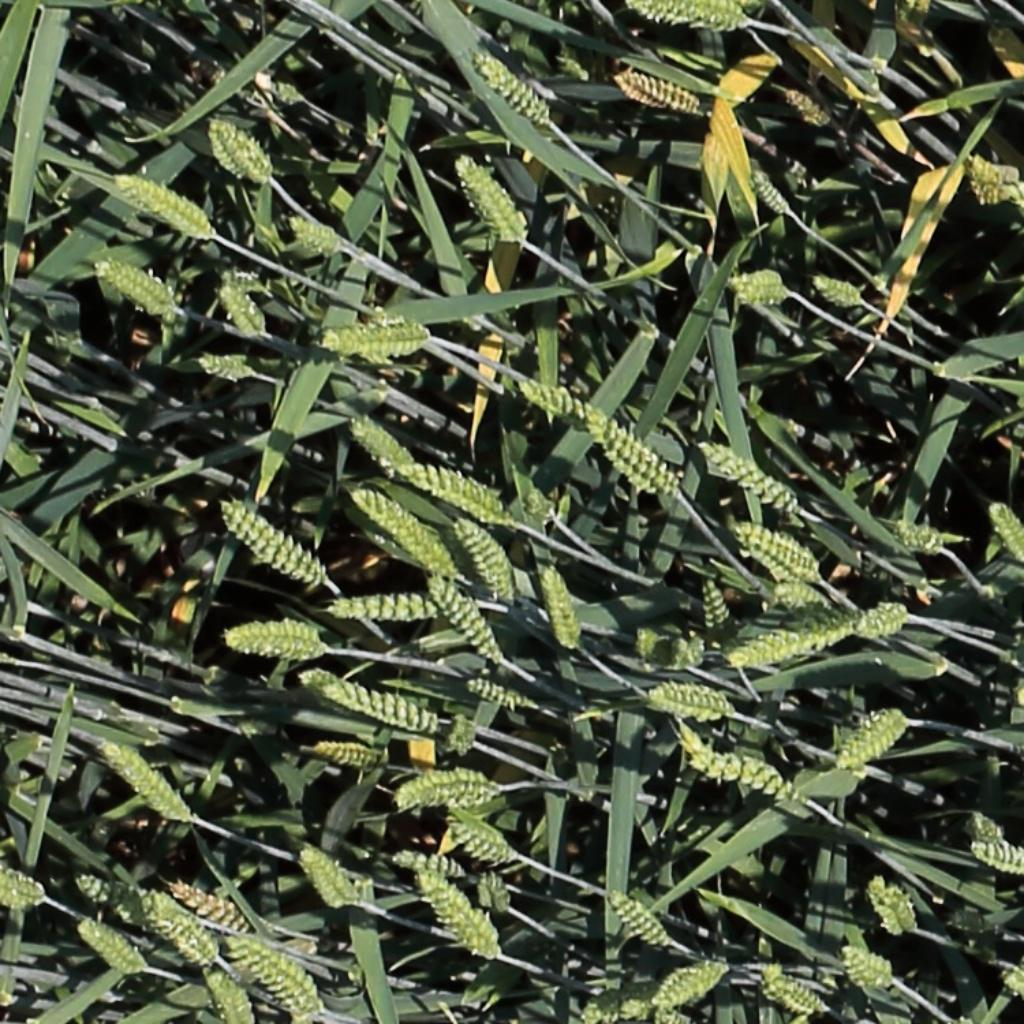0-0: (544, 383, 678, 496), (68, 849, 188, 939), (354, 483, 458, 582), (314, 305, 451, 371), (219, 499, 323, 585), (350, 417, 448, 500), (98, 740, 191, 826), (416, 872, 501, 962), (684, 737, 801, 802), (428, 573, 507, 669), (701, 439, 802, 514), (226, 935, 319, 1015), (591, 415, 679, 498), (453, 148, 529, 244), (755, 578, 854, 651), (451, 513, 521, 607), (116, 170, 214, 237), (320, 679, 441, 733), (472, 49, 554, 125), (400, 461, 507, 518), (643, 598, 715, 675), (610, 0, 765, 35), (223, 606, 331, 656), (393, 766, 512, 811), (733, 521, 823, 578), (152, 894, 218, 968), (733, 626, 851, 667), (297, 843, 363, 916), (517, 376, 611, 427), (836, 711, 910, 774), (170, 882, 252, 936), (208, 113, 270, 182), (540, 561, 585, 656), (607, 890, 674, 951), (77, 920, 146, 976), (96, 259, 173, 309), (446, 811, 513, 868), (965, 151, 1024, 213), (653, 962, 729, 1010), (618, 69, 703, 111), (215, 275, 270, 339), (647, 682, 742, 719), (256, 66, 321, 118), (974, 942, 1024, 1009), (866, 873, 912, 943), (203, 962, 253, 1024), (845, 597, 912, 643), (877, 876, 924, 940), (764, 974, 831, 1017), (984, 496, 1024, 566), (749, 163, 798, 218), (503, 485, 573, 523), (466, 679, 540, 712), (842, 946, 898, 988), (0, 856, 46, 905), (700, 573, 733, 641), (391, 853, 468, 882), (479, 866, 512, 925), (785, 84, 832, 124), (289, 217, 344, 251), (0, 851, 31, 909), (331, 600, 436, 617), (894, 518, 946, 552), (965, 808, 1004, 851), (813, 274, 868, 304), (312, 744, 380, 768), (449, 707, 477, 764), (972, 845, 1024, 873), (199, 353, 256, 378), (731, 277, 789, 301), (633, 619, 660, 669), (948, 912, 1000, 935)
